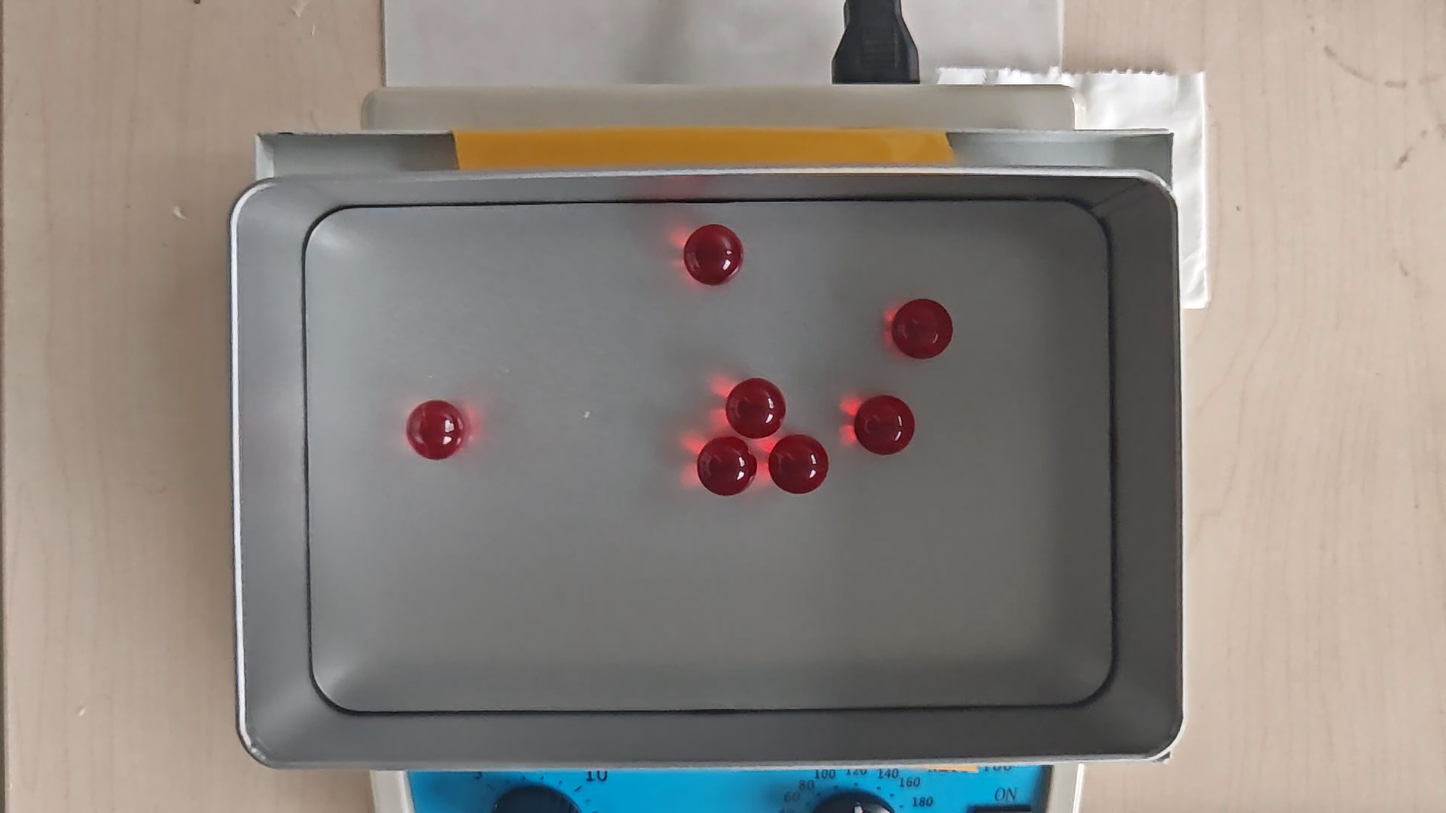ball: (684, 222, 745, 285), (892, 297, 953, 357), (698, 437, 757, 497), (407, 400, 465, 460), (728, 378, 786, 437), (768, 435, 828, 492), (856, 396, 913, 455)
container: (303, 200, 1118, 716)
